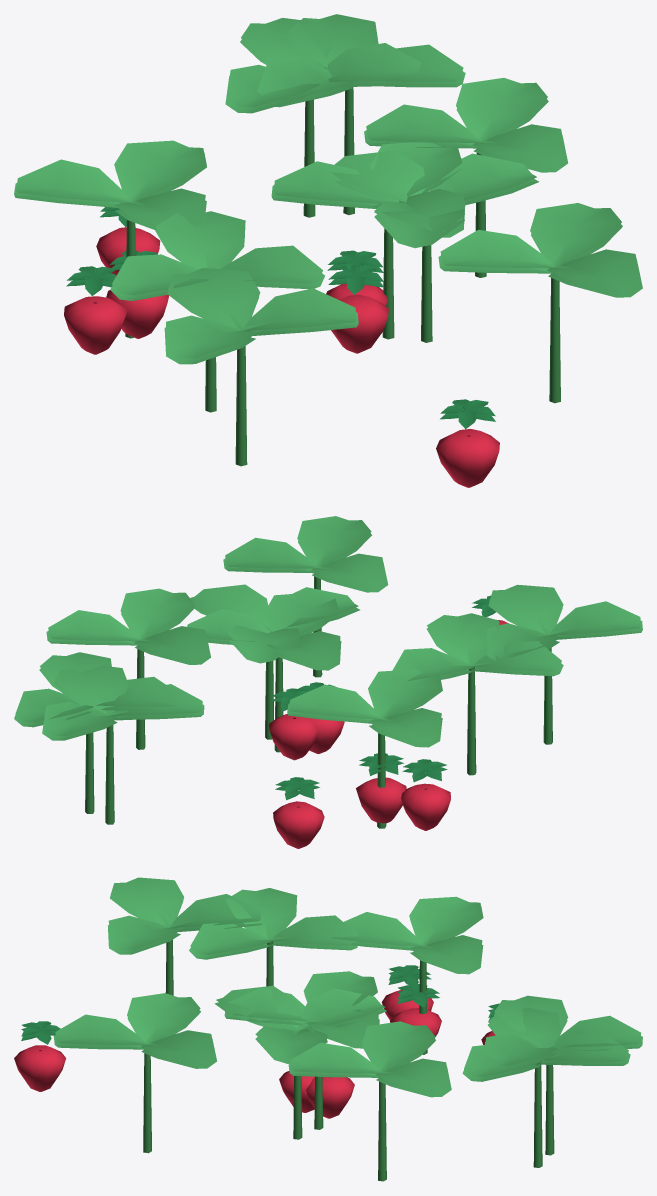
File: ing_wild_strawberry.gltf
The picture shows the model from 3 angles, top to bottom: view 1: azimuth 30°, elevation 25°; view 2: azimuth 150°, elevation 25°; view 3: azimuth 270°, elevation 25°; orthographic projection. The views are drawn at different scales.
Visible parts, largest first — view 1: ing_wild_strawberry; view 2: ing_wild_strawberry; view 3: ing_wild_strawberry.
Part boxes in pixels (x1,y1,x2,y2): ing_wild_strawberry: (14, 14, 642, 487); ing_wild_strawberry: (14, 516, 642, 848); ing_wild_strawberry: (14, 877, 642, 1181).
Size of what is drawn, in the model's own units: 0.3129 by 0.0848 by 0.3845.
